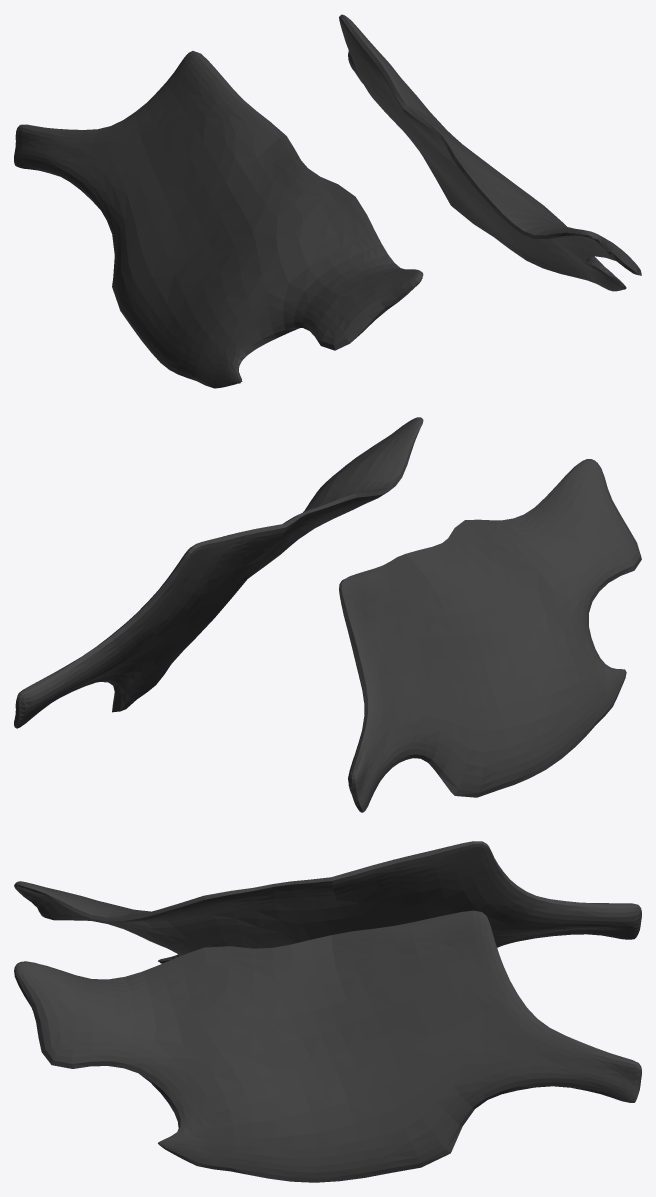
Rendered from lig_sacrosciatic_L_LO.glb.
3 renders of one model, top to bottom at view 1: azimuth 30°, elevation 25°; view 2: azimuth 150°, elevation 25°; view 3: azimuth 270°, elevation 25°, orthographic. The views are drawn at different scales.
Visible parts, largest first — view 1: lig_sacrosciatic_L_LO; view 2: lig_sacrosciatic_L_LO; view 3: lig_sacrosciatic_L_LO.
Boxes of the visible parts, x1,y1,x2,y2 form: lig_sacrosciatic_L_LO: (14,14,641,388); lig_sacrosciatic_L_LO: (14,417,641,812); lig_sacrosciatic_L_LO: (14,841,641,1182).
Size of the model in its own units: 0.0024 by 0.00127 by 0.00334.
1 material, 1 textured.
